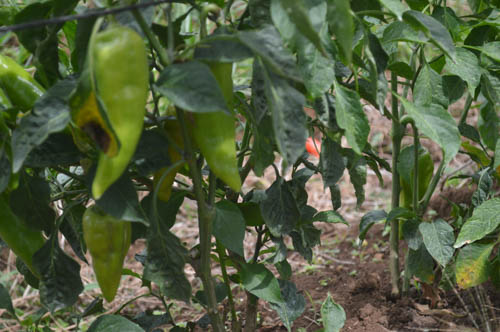ChiliPepper: (89, 32, 148, 196), (184, 56, 242, 193), (84, 208, 135, 306), (3, 57, 55, 119), (402, 148, 434, 245), (5, 200, 47, 272)
